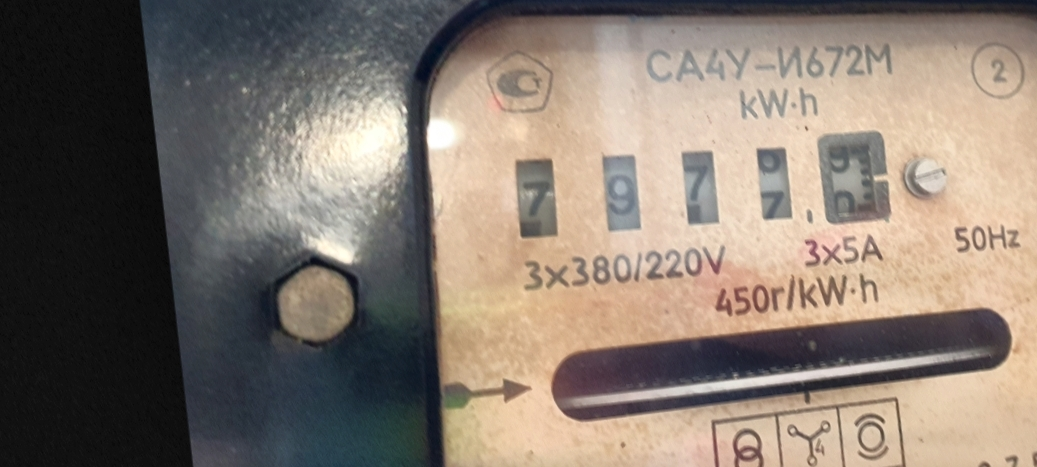0: (829, 186, 855, 217)
7: (515, 175, 554, 223), (755, 181, 789, 225), (680, 161, 713, 204)
9: (601, 170, 637, 220), (822, 142, 856, 177)
screen: (496, 105, 909, 276)
